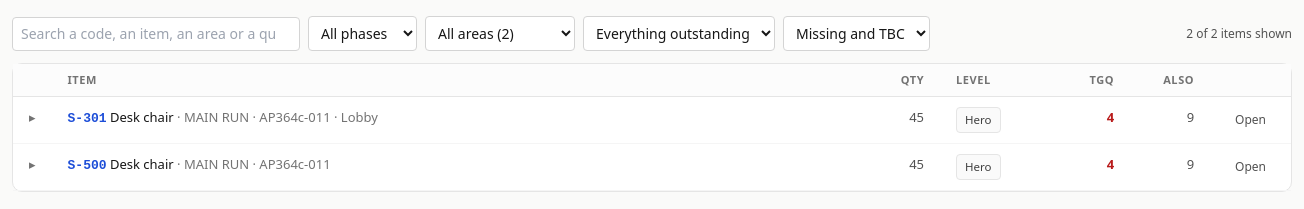
InfillTable › a line with no area is REACHABLE rather than dropped
The image size is (1304, 209).
Select "No area given (1)" in the dropdown named "Filter by area": (500, 34) top-left (425, 16), bottom-right (575, 51)
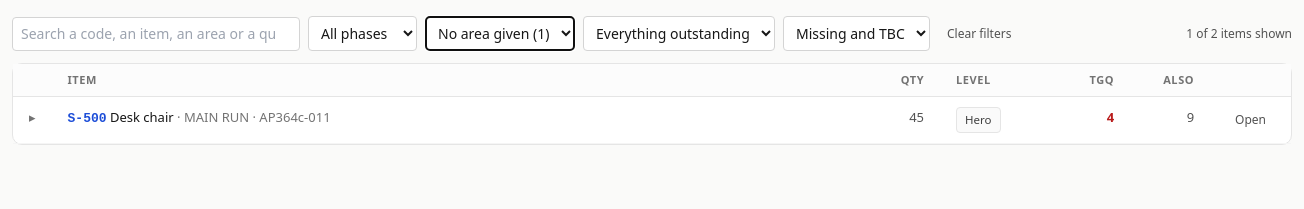
Check: the link "S-500" is shown, box top-left (68, 111), bottom-right (106, 126)
Check: the link "S-301" is gone
